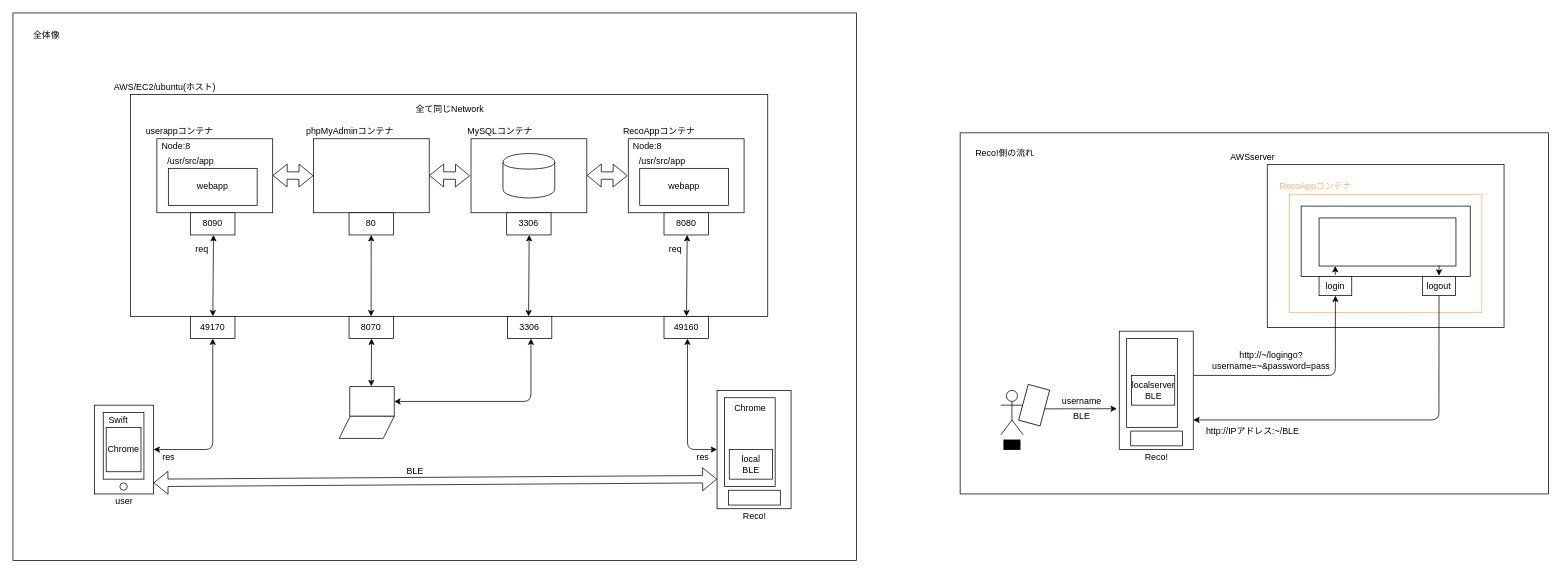
Some shapes in this 1561 by 574 pixel diagram are drawn without their labels. Each missing label, with the box of its shape:
DB: (502, 153, 555, 198)
DBのGUI操作のため: (313, 138, 429, 213)
PC: (349, 386, 394, 416)
購入システム: (1318, 217, 1456, 266)
